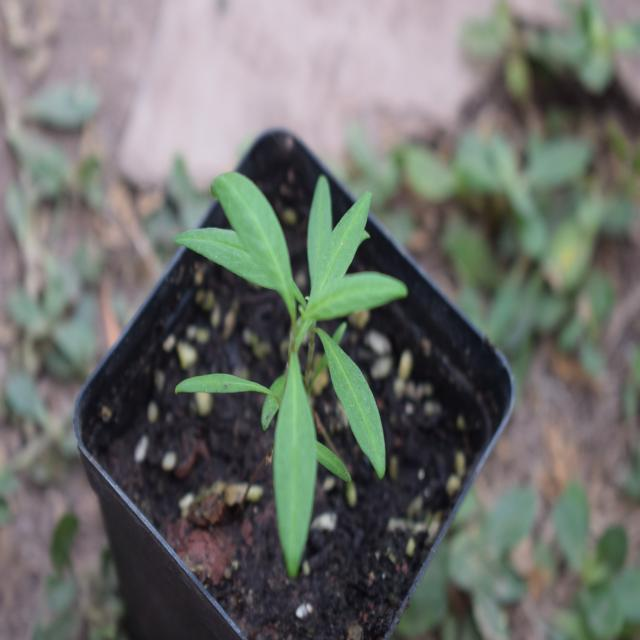white_smart_weed: (179, 148, 419, 549)
